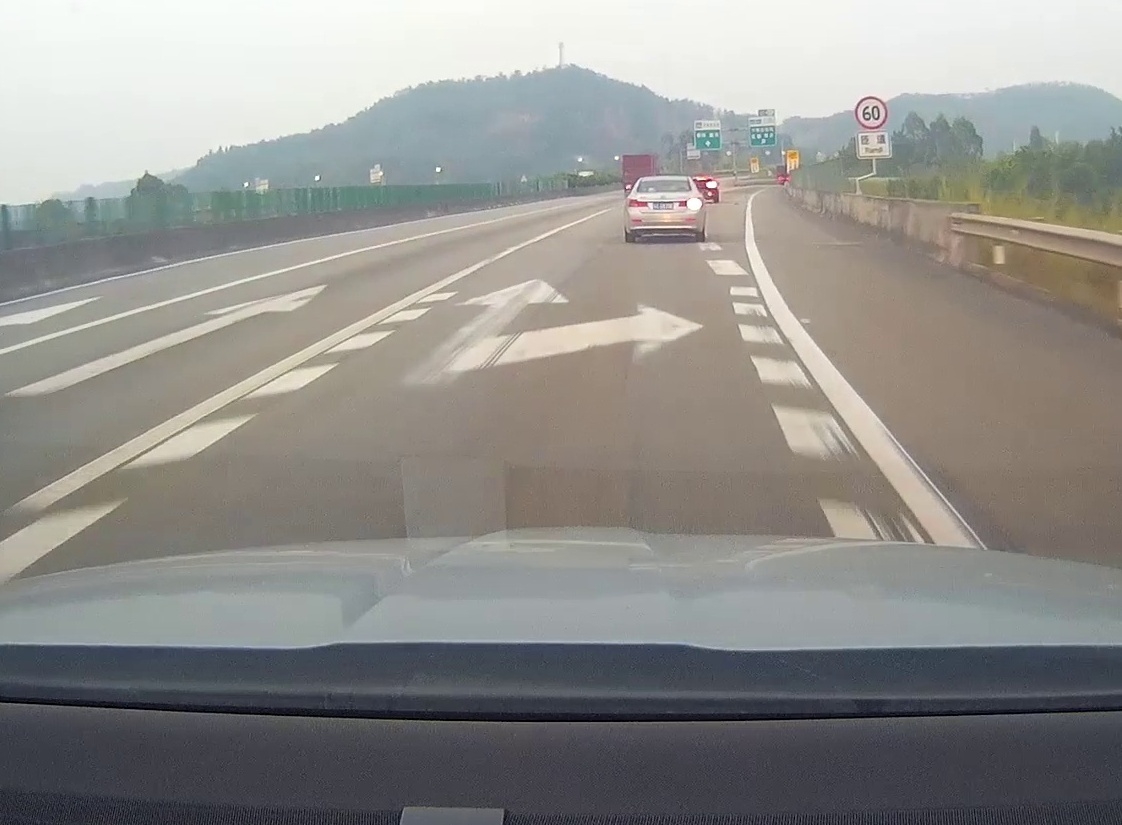L_light: (628, 199, 648, 208)
R_light: (679, 199, 700, 207)
T_light: (658, 179, 672, 181)
day-right: (623, 176, 705, 242)
